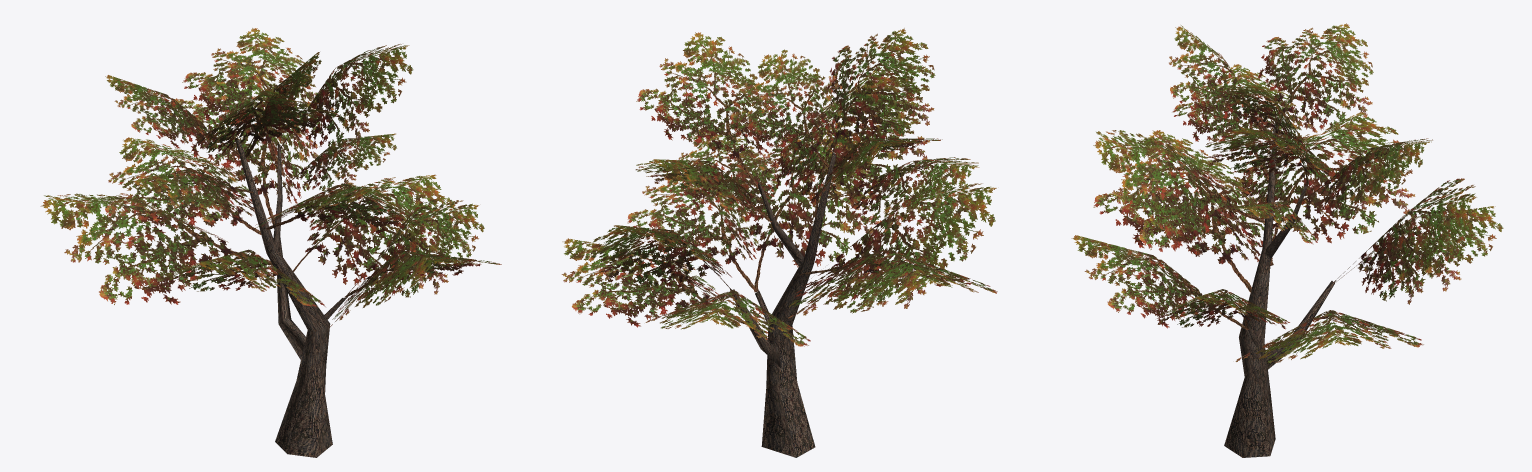
The model's file is tre_maple03_big01.static.glb.
3 views of the same model, side by side, from view 1: azimuth 30°, elevation 25°; view 2: azimuth 150°, elevation 25°; view 3: azimuth 270°, elevation 25° (orthographic). The views are drawn at different scales.
Visible parts, largest first — view 1: tre_maple03_big01_leaf, tre_maple03_big01_brn; view 2: tre_maple03_big01_leaf, tre_maple03_big01_brn; view 3: tre_maple03_big01_leaf, tre_maple03_big01_brn.
Part boxes in pixels (bbox=[...]): tre_maple03_big01_leaf: bbox=[40, 28, 501, 326]; tre_maple03_big01_brn: bbox=[235, 139, 347, 457]; tre_maple03_big01_leaf: bbox=[561, 28, 997, 346]; tre_maple03_big01_brn: bbox=[729, 153, 836, 457]; tre_maple03_big01_leaf: bbox=[1071, 23, 1503, 363]; tre_maple03_big01_brn: bbox=[1224, 124, 1334, 457].
Bounding box in the file's own units: 33.84 × 31.6 × 33.85.
2 materials, 2 textured.
